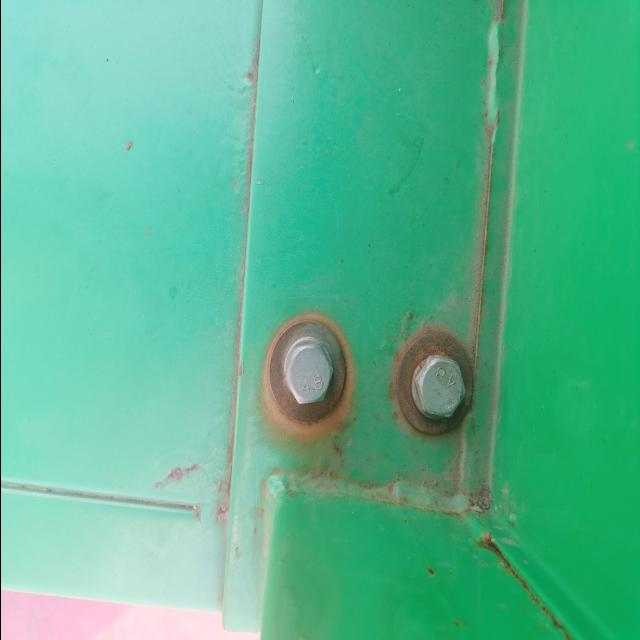Regular bolt: (288, 340, 337, 406), (415, 358, 466, 420)
